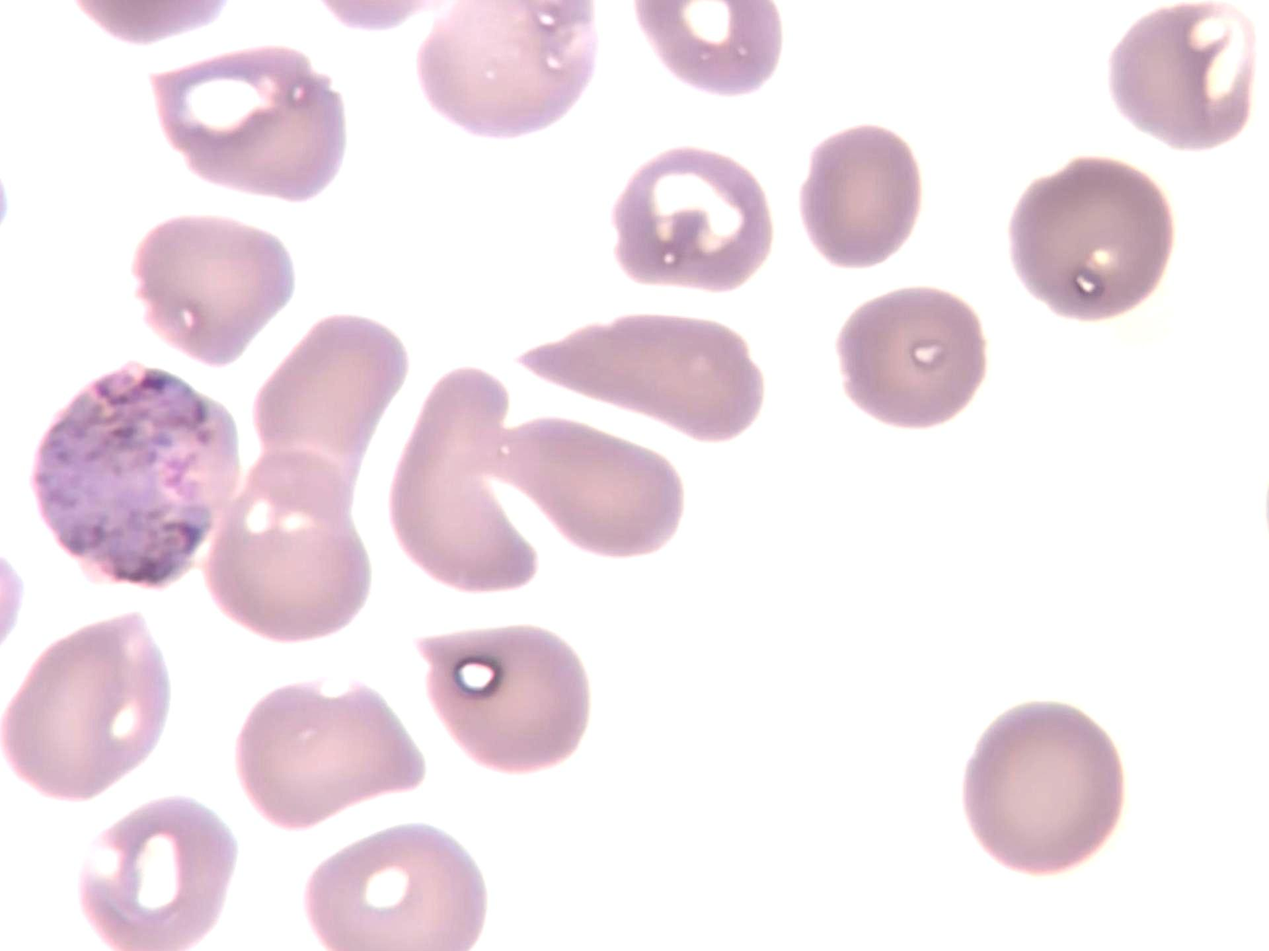Infected: (26, 362, 229, 587)
Uninfected: (524, 314, 765, 452), (383, 373, 532, 596), (476, 408, 679, 559), (209, 455, 369, 646), (145, 45, 348, 195), (7, 620, 175, 800), (958, 699, 1121, 881), (258, 309, 402, 506), (1005, 155, 1171, 317), (410, 618, 587, 766), (227, 688, 419, 821), (414, 0, 599, 133), (300, 825, 488, 951), (128, 210, 286, 359), (79, 796, 228, 951), (837, 283, 997, 427), (612, 144, 773, 286), (1104, 5, 1257, 149), (798, 129, 924, 270)
